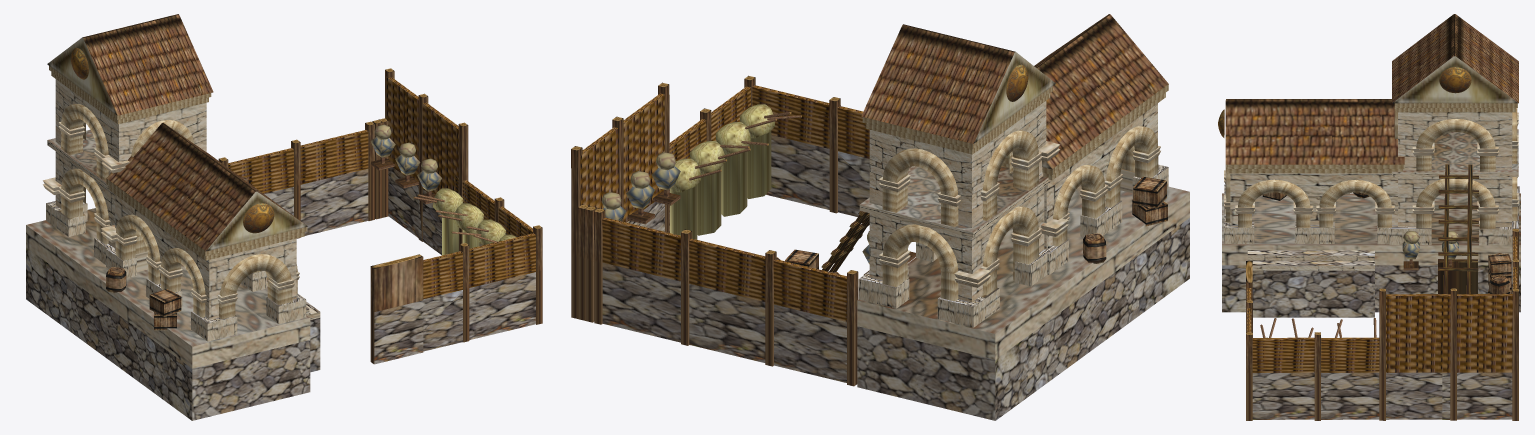
Rendered from range.dae.
3 views of the same model, side by side, from view 1: azimuth 30°, elevation 25°; view 2: azimuth 150°, elevation 25°; view 3: azimuth 270°, elevation 25° (orthographic). The views are drawn at different scales.
Visible parts, largest first — view 1: range; view 2: range; view 3: range.
Boxes of the visible parts, x1,y1,x2,y2 form: range: (26,14,542,420); range: (571,14,1189,420); range: (1218,14,1520,420).
Bounding box in the file's own units: 27.9 × 21.5 × 20.3.
